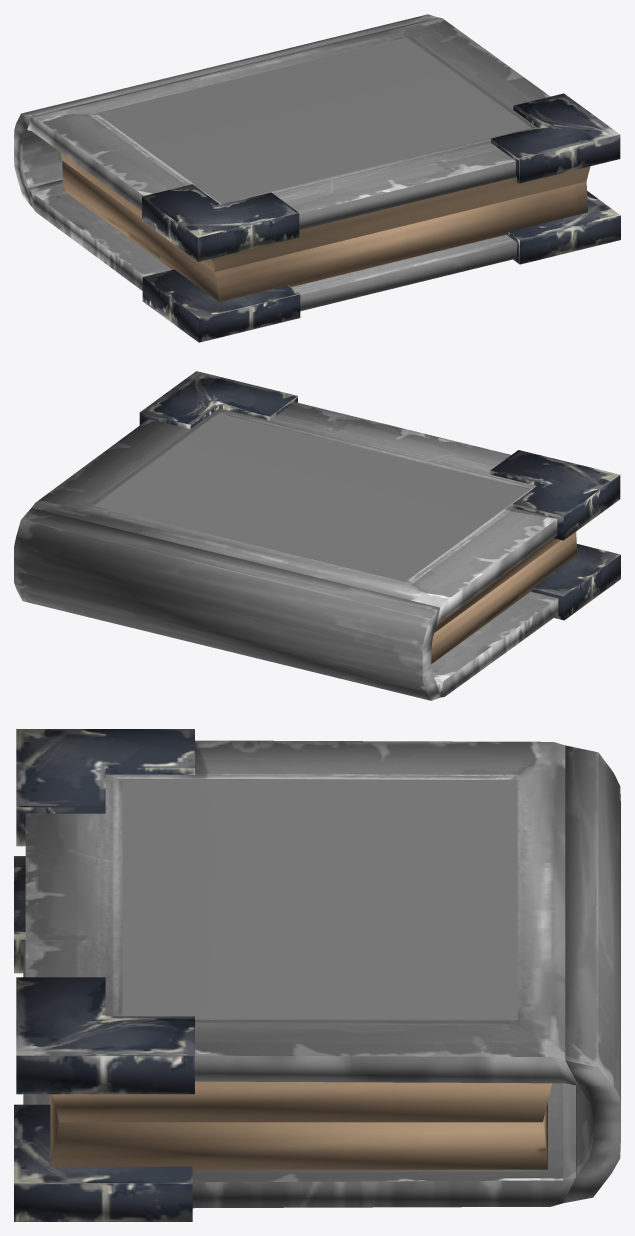
File: book.glb
3 views of the same model, one above another, from view 1: azimuth 30°, elevation 25°; view 2: azimuth 150°, elevation 25°; view 3: azimuth 270°, elevation 25° (orthographic). The views are drawn at different scales.
Parts seen in each view (by area): view 1: FrontCover, PagesBottom, MarbleFrame, BackCover, MarbleFrame_1, PagesTop, Spine; view 2: FrontCover, Spine, MarbleFrame, BackCover, PagesBottom, MarbleFrame_1, PagesTop; view 3: FrontCover, MarbleFrame, PagesBottom, Spine, PagesTop, BackCover, MarbleFrame_1.
Boxes of the visible parts, x1,y1,x2,y2 form: FrontCover: (27, 17, 550, 229); PagesBottom: (62, 161, 587, 301); MarbleFrame: (142, 93, 620, 261); BackCover: (28, 180, 516, 311); MarbleFrame_1: (142, 191, 620, 342); PagesTop: (60, 152, 590, 271); Spine: (14, 14, 437, 206); FrontCover: (31, 402, 557, 626); Spine: (14, 508, 440, 700); MarbleFrame: (139, 371, 620, 540); BackCover: (431, 591, 558, 697); PagesBottom: (431, 532, 577, 663); MarbleFrame_1: (531, 544, 620, 620); PagesTop: (434, 538, 560, 632); FrontCover: (25, 740, 578, 1085); MarbleFrame: (16, 729, 194, 1094); PagesBottom: (49, 1094, 547, 1169); Spine: (563, 745, 620, 1203); PagesTop: (52, 1081, 551, 1122); BackCover: (23, 941, 575, 1208); MarbleFrame_1: (14, 856, 192, 1221).
Size of the model in its own units: 1.42 by 0.3383 by 1.12.
1 material, 1 textured.
